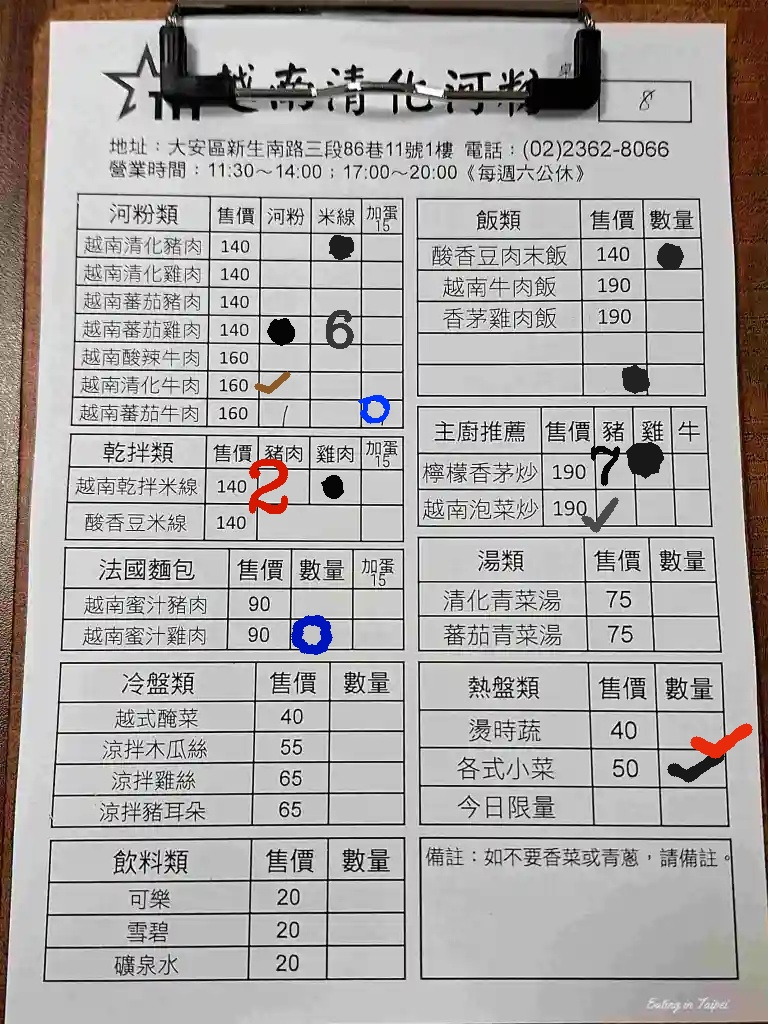marked_circle: (585, 362, 645, 392), (642, 239, 702, 269), (309, 469, 361, 502), (633, 452, 673, 489), (312, 231, 361, 259), (259, 316, 308, 344)
marked_hollow: (290, 617, 352, 647), (362, 399, 402, 429)
marked_number_2: (257, 469, 309, 502)
marked_number_6: (312, 316, 361, 344)
marked_number_7: (594, 450, 634, 487)
marked_tick: (657, 748, 726, 783), (657, 713, 726, 748), (597, 488, 637, 525), (260, 371, 309, 399)
